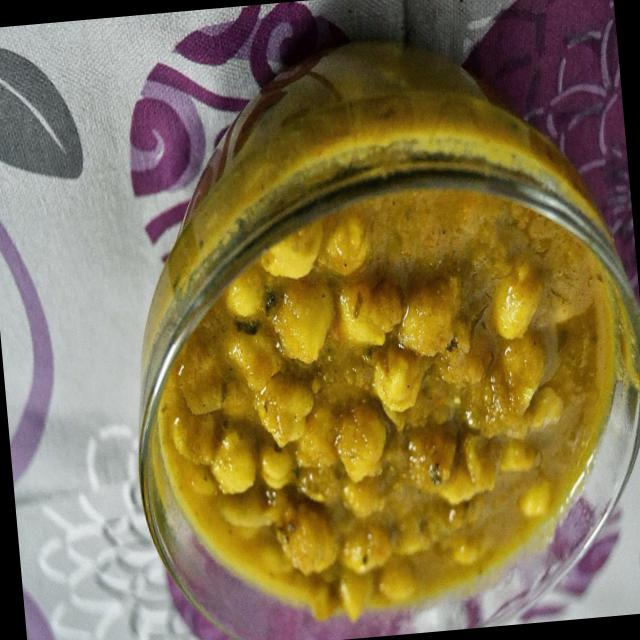Chole: (126, 22, 638, 636)
